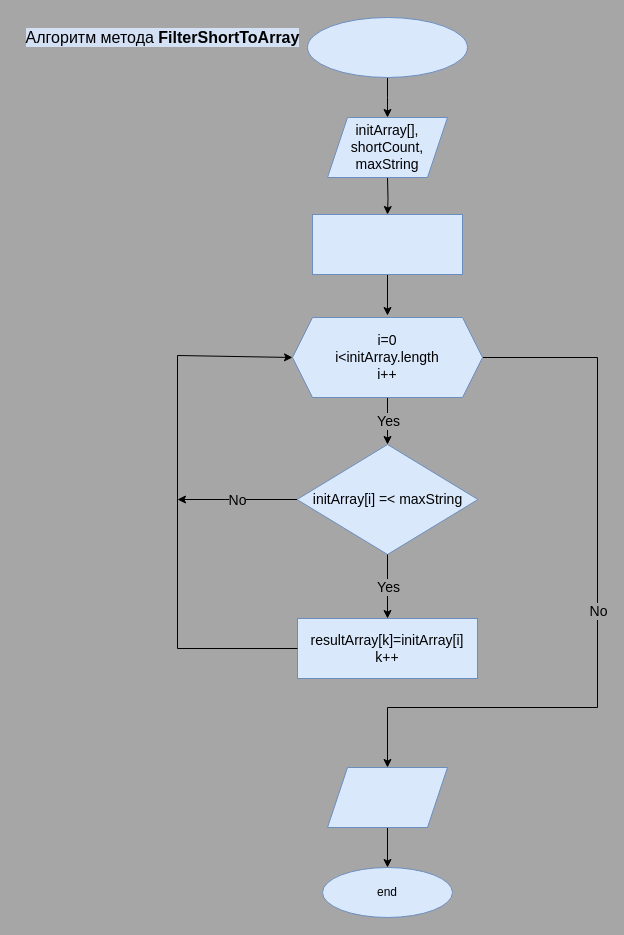
Some shapes in this 624 by 935 pixel diagram are drawn without their labels. The box of each missing label's shape, as (x1, y1, x2, y2) in pixels:
create new string resultArray[shortCount], k=0: (312, 214, 462, 274)
resultArray[]: (326, 766, 448, 828)
start: (306, 16, 468, 78)
